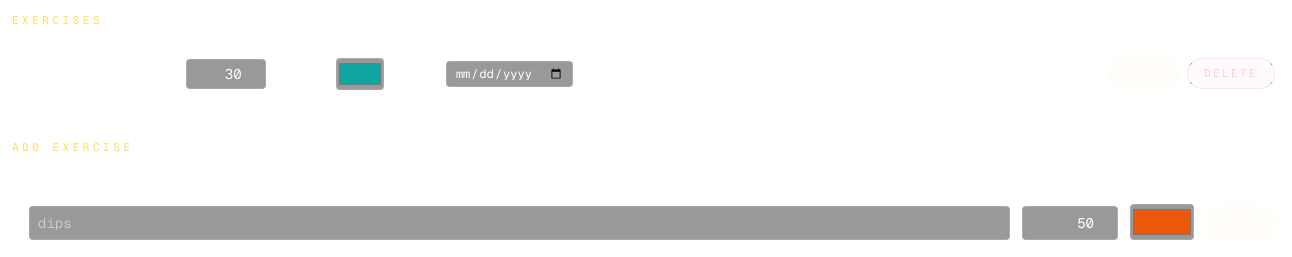
Test: StrengthSettings — scheduling guards (#371 review) › snaps the target back to what is in effect after scheduling
Replace the text in the number field labelled "target" in the row of "pullups" with "50" at (226, 74), box [186, 58, 266, 88]
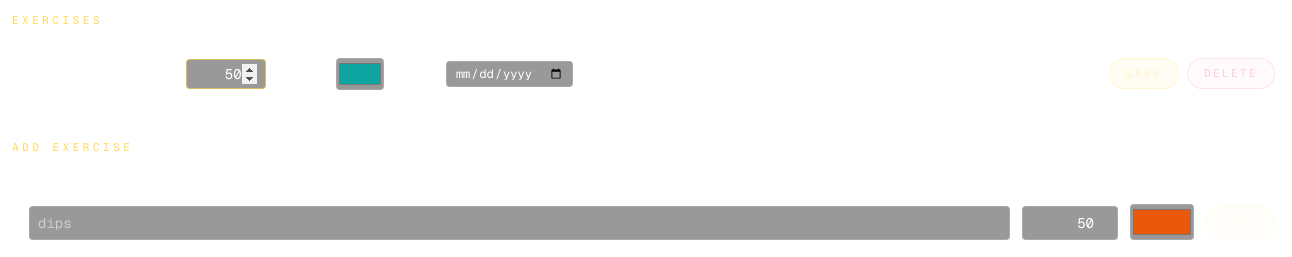
Type "2099-09-01" into the date field named "effective date for the pullups target" at (509, 74), box [446, 60, 573, 86]
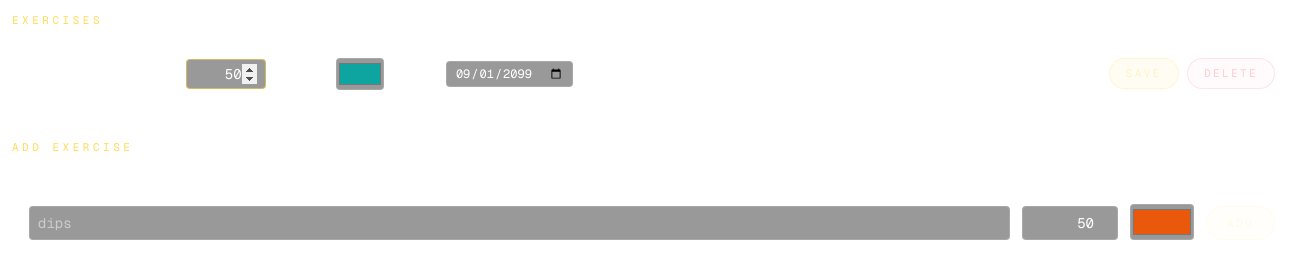
Click the button "Save" at (1144, 74), box [1109, 58, 1179, 89]
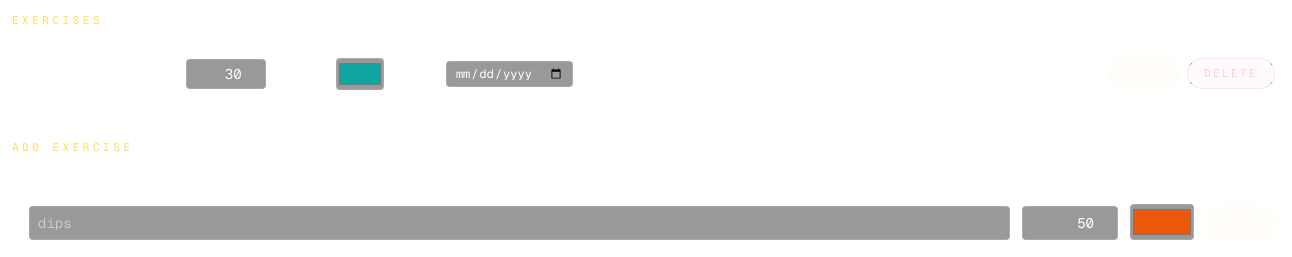
expect the number field labelled "target" in the row of "pullups" holds "30": met, box [186, 58, 266, 88]
